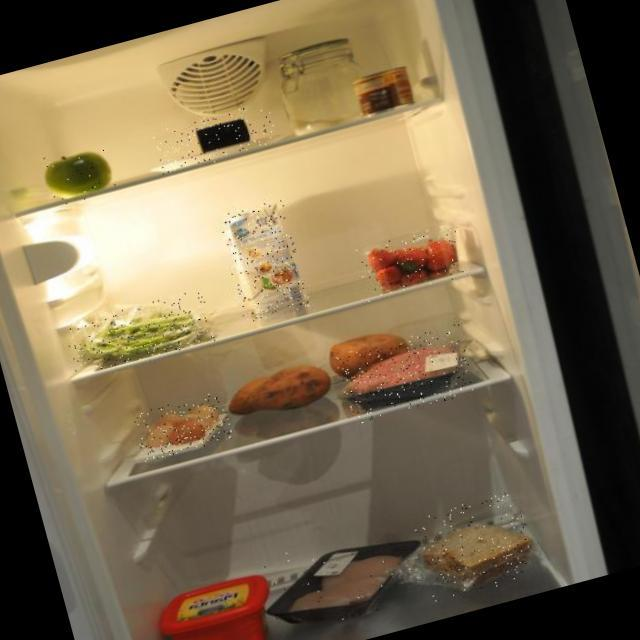Huevos: (131, 390, 233, 462)
Manzana: (40, 140, 119, 210)
Queso: (151, 100, 279, 175)
